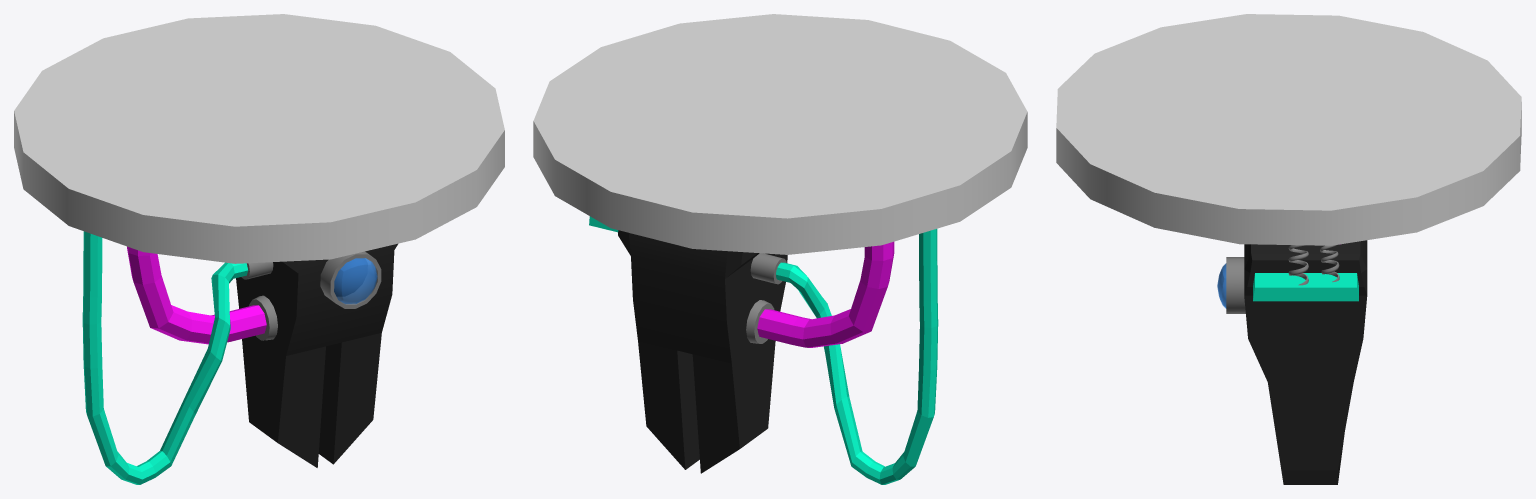
Rendered from camarita reanimada.FBX.
3 renders of one model, left to right at view 1: azimuth 30°, elevation 25°; view 2: azimuth 150°, elevation 25°; view 3: azimuth 270°, elevation 25°, orthographic. The views are drawn at different scales.
Visible parts, largest first — view 1: Cylinder001, Object002; view 2: Cylinder001, Object002; view 3: Cylinder001, Object002.
Boxes of the visible parts, left/top/right/bottom form: Cylinder001: left=14, top=14, right=504, bottom=263; Object002: left=82, top=231, right=397, bottom=484; Cylinder001: left=533, top=14, right=1027, bottom=254; Object002: left=589, top=216, right=938, bottom=484; Cylinder001: left=1056, top=14, right=1521, bottom=245; Object002: left=1217, top=240, right=1367, bottom=484.
Size of the model in its own units: 65.62 by 52.87 by 65.62.
